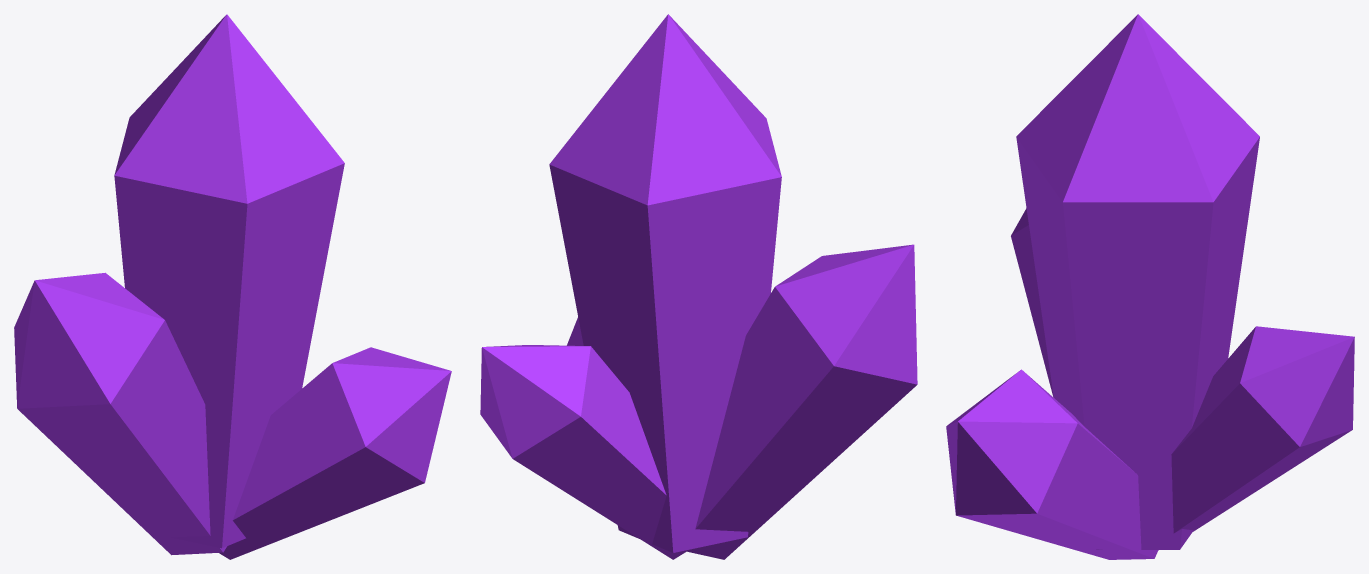
Rendered from crystals2.fbx.
3 views of the same model, side by side, from view 1: azimuth 30°, elevation 25°; view 2: azimuth 150°, elevation 25°; view 3: azimuth 270°, elevation 25° (orthographic). The views are drawn at different scales.
Visible parts, largest first — view 1: crystal2; view 2: crystal2; view 3: crystal2.
Boxes of the visible parts, bbox=[...] form: crystal2: bbox=[14, 14, 451, 559]; crystal2: bbox=[480, 14, 917, 559]; crystal2: bbox=[946, 14, 1354, 559].
Bounding box in the file's own units: 4.15 × 5.55 × 3.73.
